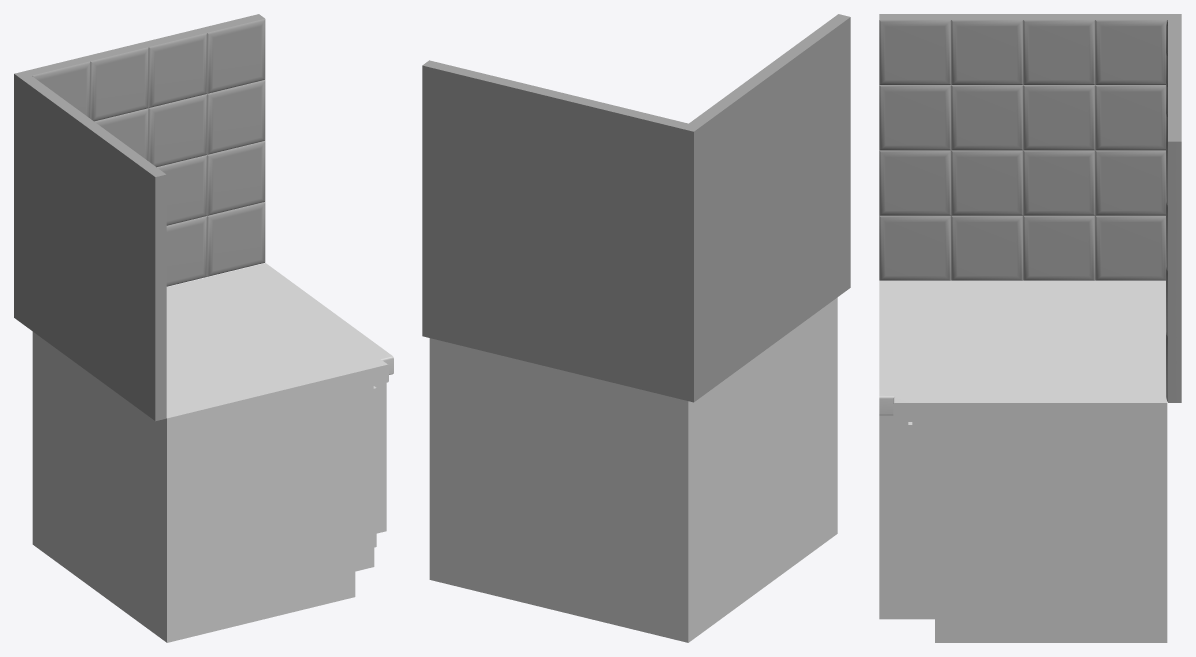
The model's file is geo_counterCornerIn.fbx.
3 renders of one model, left to right at view 1: azimuth 30°, elevation 25°; view 2: azimuth 150°, elevation 25°; view 3: azimuth 270°, elevation 25°, orthographic. The views are drawn at different scales.
Visible parts, largest first — view 1: geo_counterCornerIn; view 2: geo_counterCornerIn; view 3: geo_counterCornerIn.
Boxes of the visible parts, x1,y1,x2,y2 form: geo_counterCornerIn: (14,14,393,642); geo_counterCornerIn: (422,14,850,642); geo_counterCornerIn: (879,14,1181,642).
Size of the model in its own units: 1.05 by 1.92 by 1.05.
